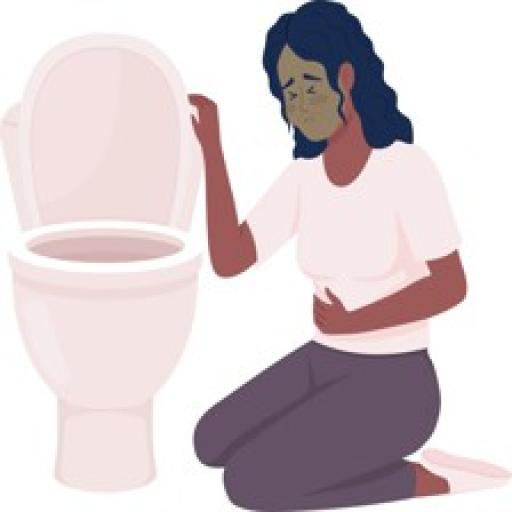human: (167, 4, 512, 512)
